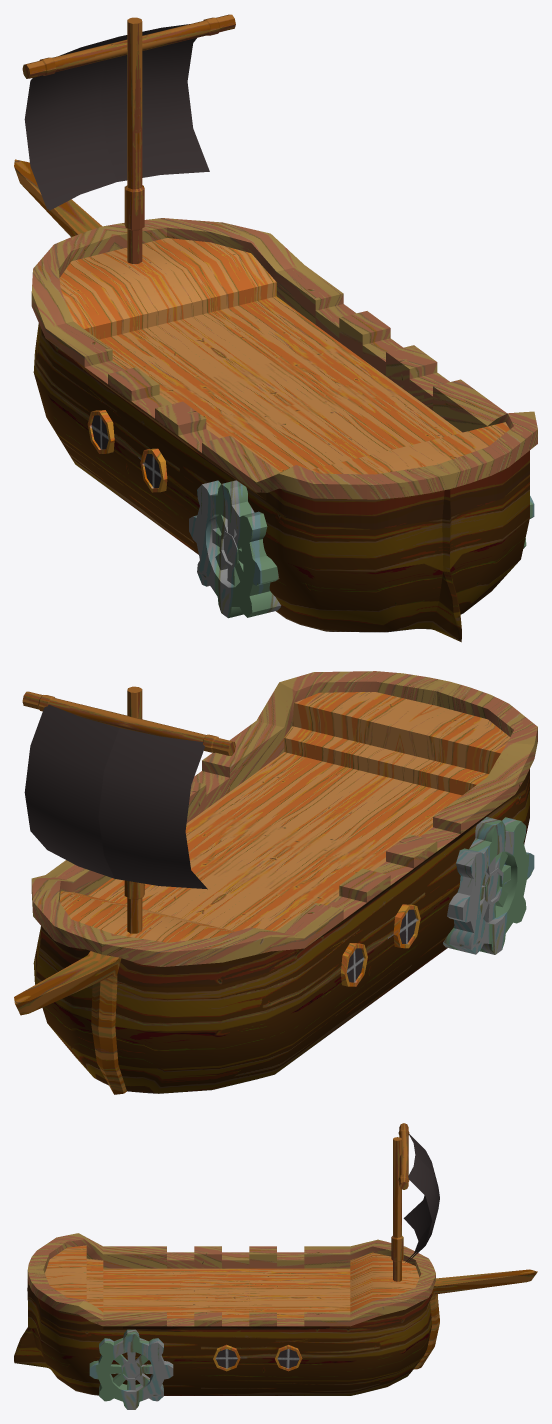
File: Ship_alfa_02.fbx
3 renders of one model, top to bottom at view 1: azimuth 30°, elevation 25°; view 2: azimuth 150°, elevation 25°; view 3: azimuth 270°, elevation 25°, orthographic. The views are drawn at different scales.
Visible parts, largest first — view 1: Ship_demo_01; view 2: Ship_demo_01; view 3: Ship_demo_01.
Boxes of the visible parts, left/top/right/bottom form: Ship_demo_01: left=14, top=14, right=537, bottom=642; Ship_demo_01: left=14, top=671, right=537, bottom=1094; Ship_demo_01: left=14, top=1123, right=537, bottom=1409.
Bounding box in the file's own units: 20.24 × 27.91 × 57.2.
1 material, 1 textured.
